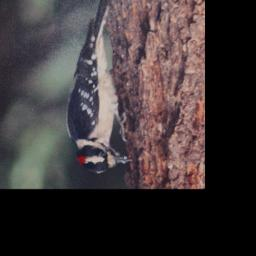Woodpecker: (63, 0, 133, 177)
